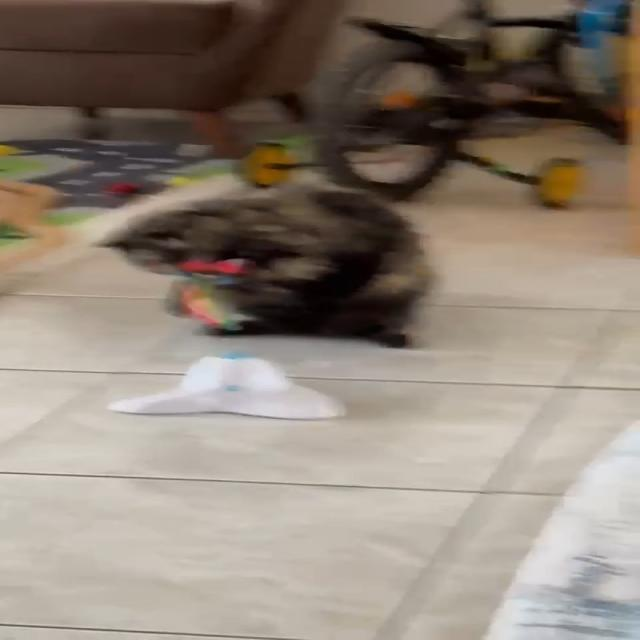authorized: (91, 177, 436, 349)
